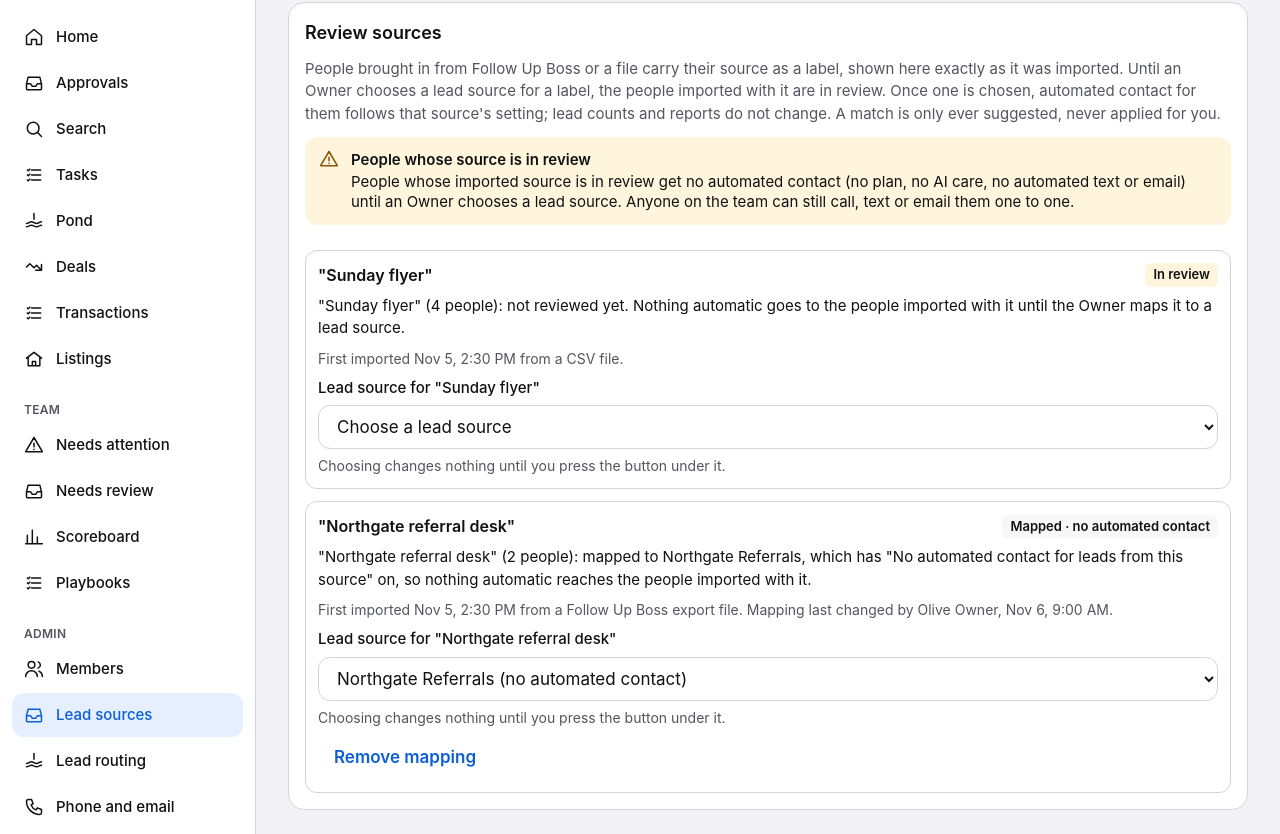
Test: R-LSRC-10 W2: the source review on the Lead sources page › R-LSRC-10 E749: a mapping is applied by its button, never by the dropdown; it can be changed; removing it asks first, says what it stops, and can be backed out
(page scrolled)
Select "Open houses" in the dropdown labelled "Lead source for \"Northgate referral desk\"" at (768, 679), box [318,657,1218,701]
(page scrolled)
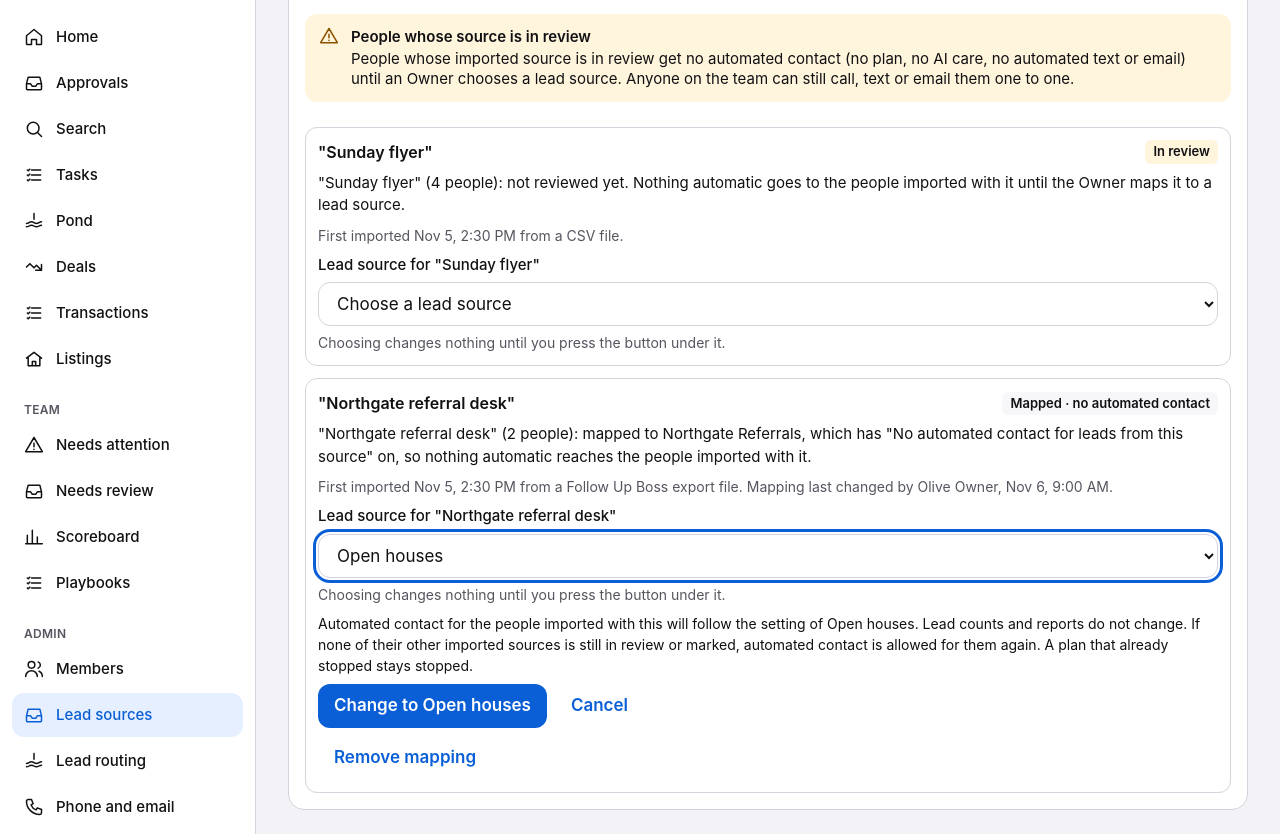
Click the button "Change to Open houses".
click(432, 706)  # box [318,684,547,728]
(page scrolled)
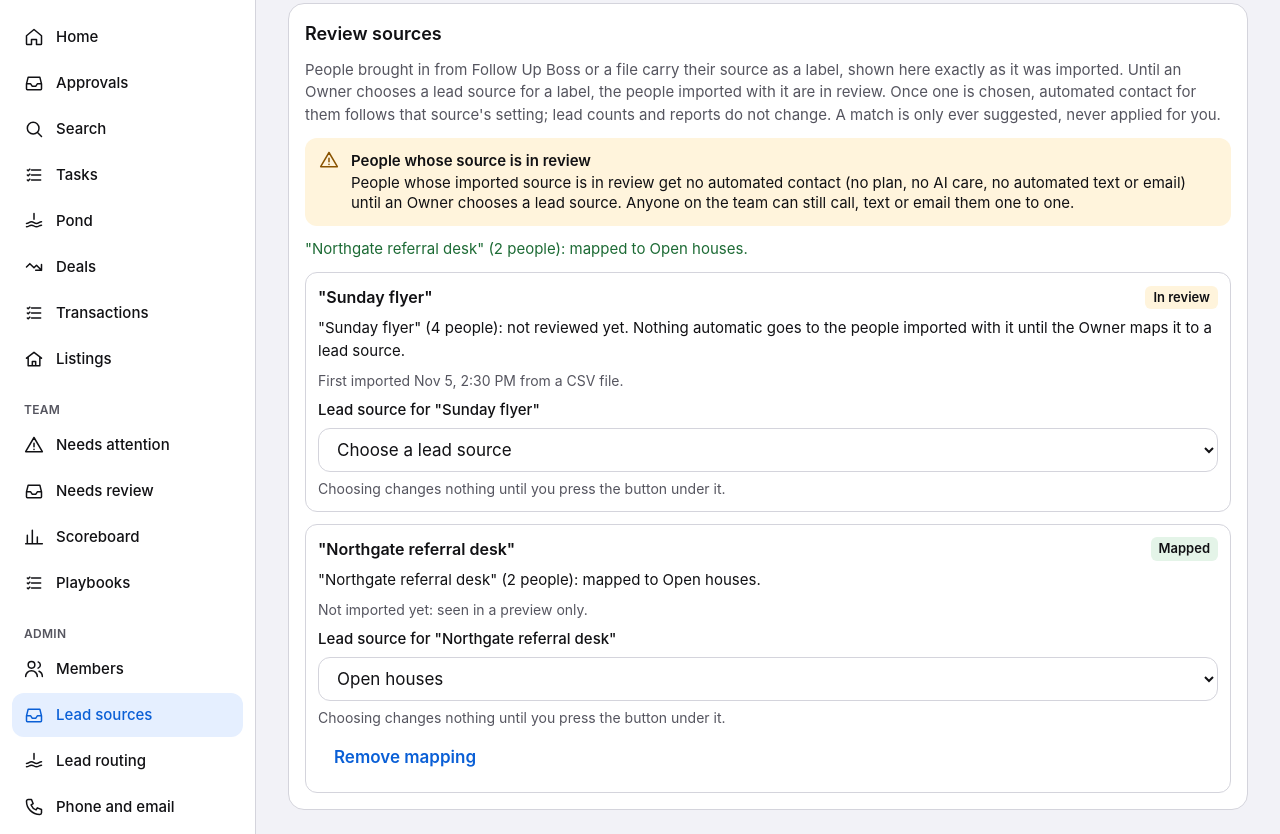
Expected: the text "Mapped" is shown, [1150,537,1218,560]
Expected: the text "\"Northgate referral desk\" (2 people): mapped to Open houses." is shown, [318,570,761,589]
Click the button "Remove mapping".
click(405, 758)  # box [318,736,492,780]
(page scrolled)
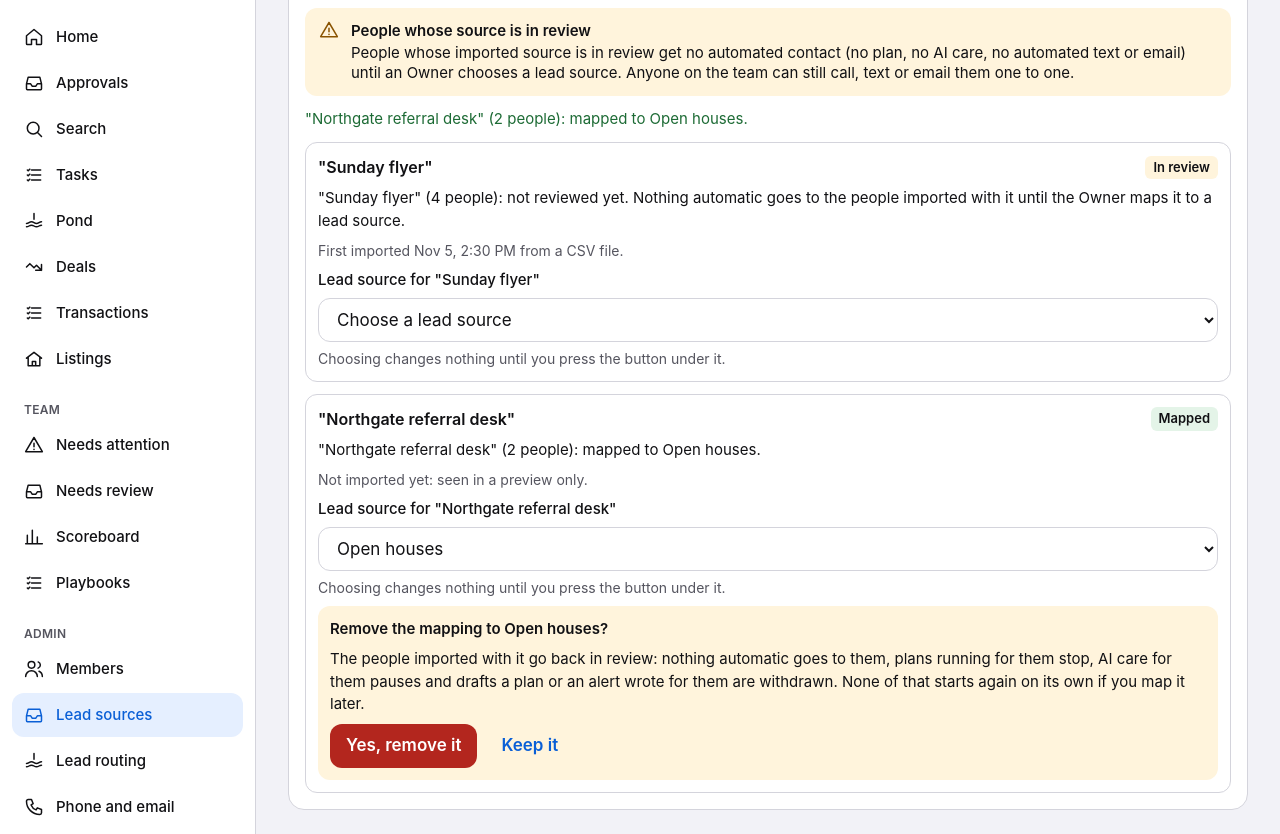
Expected: the text "The people imported with it go back in review: nothing automatic goes to them, plans running for them stop, AI care for " is shown, [330,649,1185,713]
Click the button "Keep it".
click(530, 746)  # box [485,724,574,768]
(page scrolled)
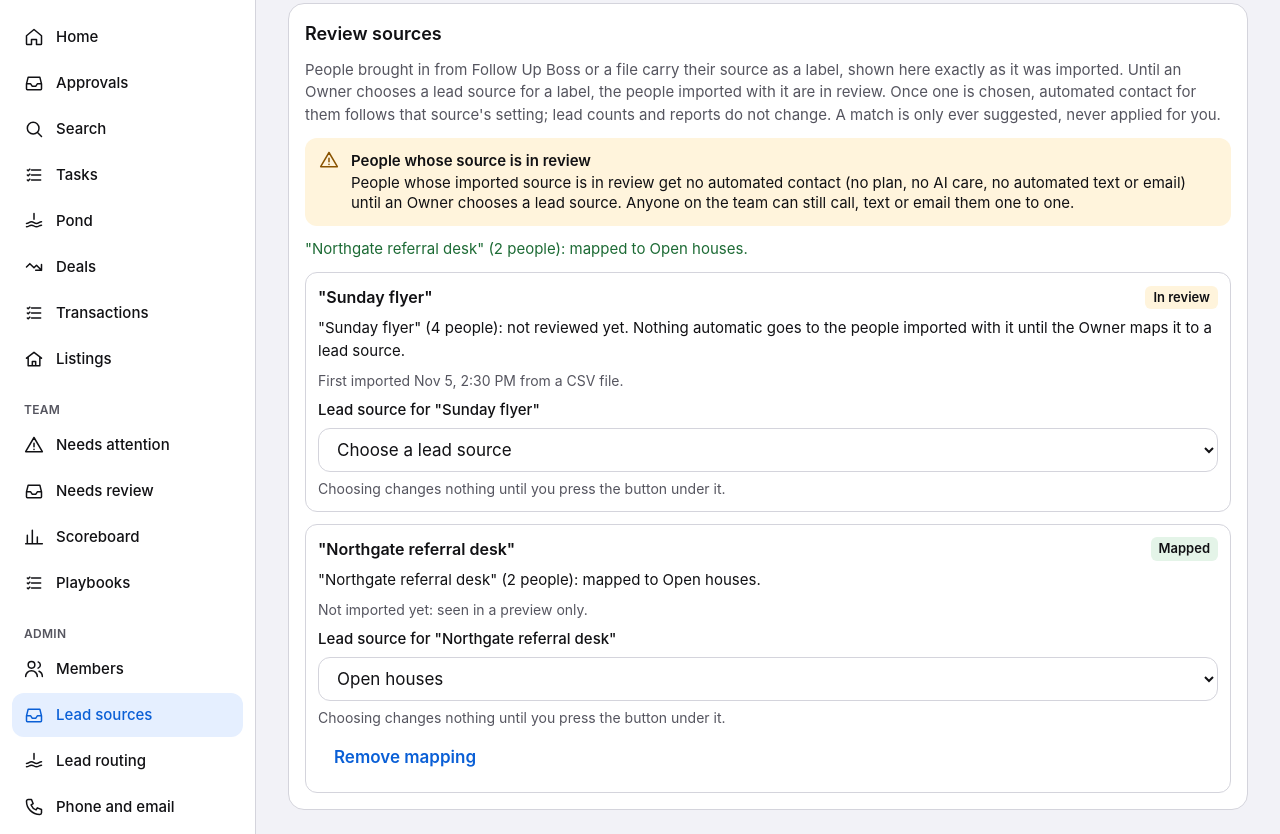
Expected: the text "Remove the mapping to Open houses" is gone
Click the button "Remove mapping".
click(405, 758)  # box [318,736,492,780]
(page scrolled)
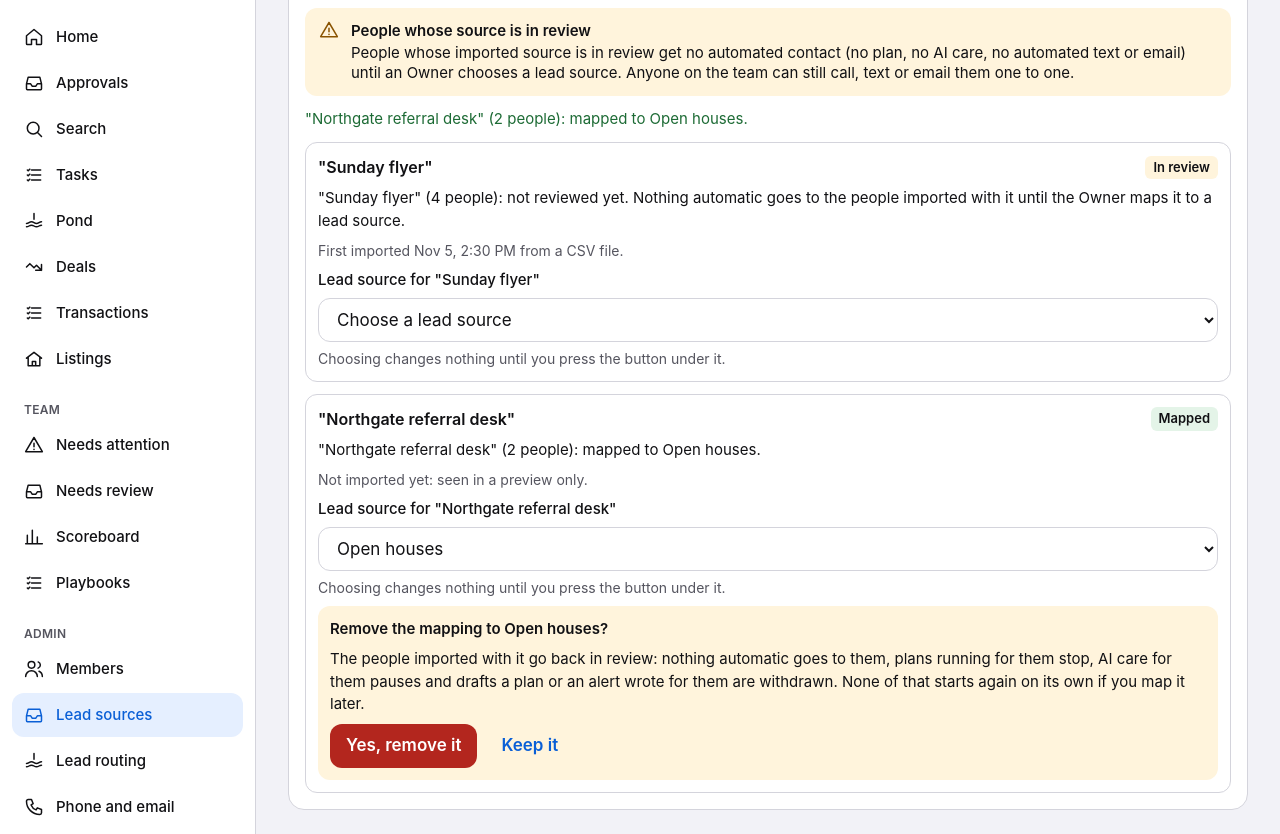
Click the button "Yes, remove it".
click(404, 746)  # box [330,724,477,768]
(page scrolled)
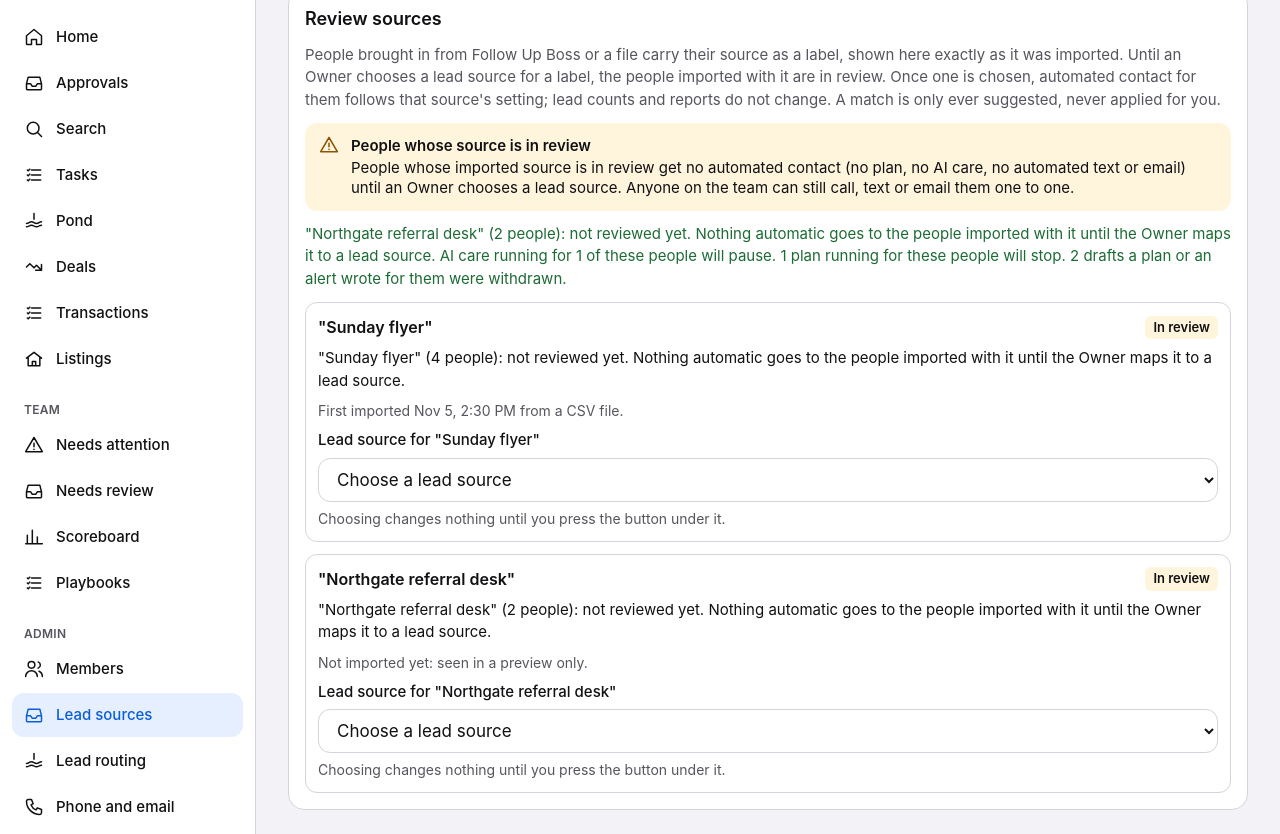
Expected: the button "Remove mapping" is not shown
Expected: the 2nd text "In review" is shown, [1145,567,1218,590]
